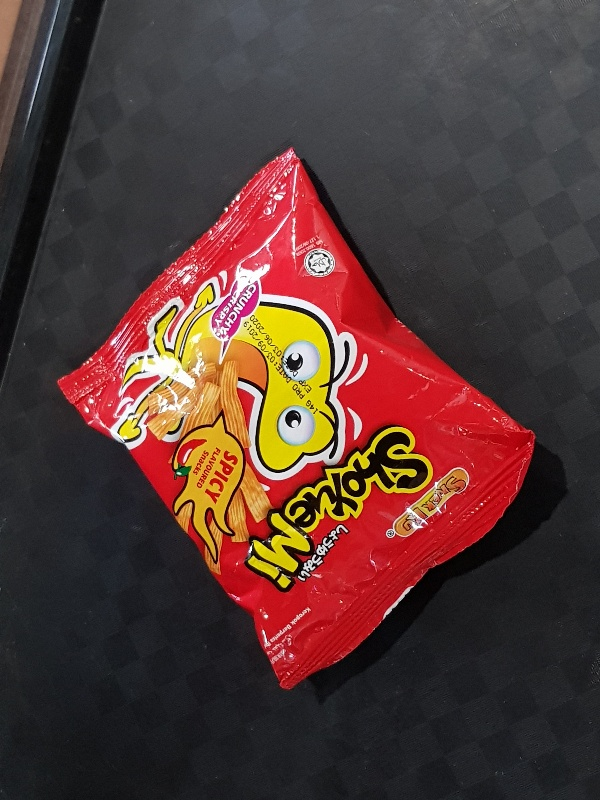ShoyueMi Spicy Flavoured Snacks: (55, 146, 537, 692)
